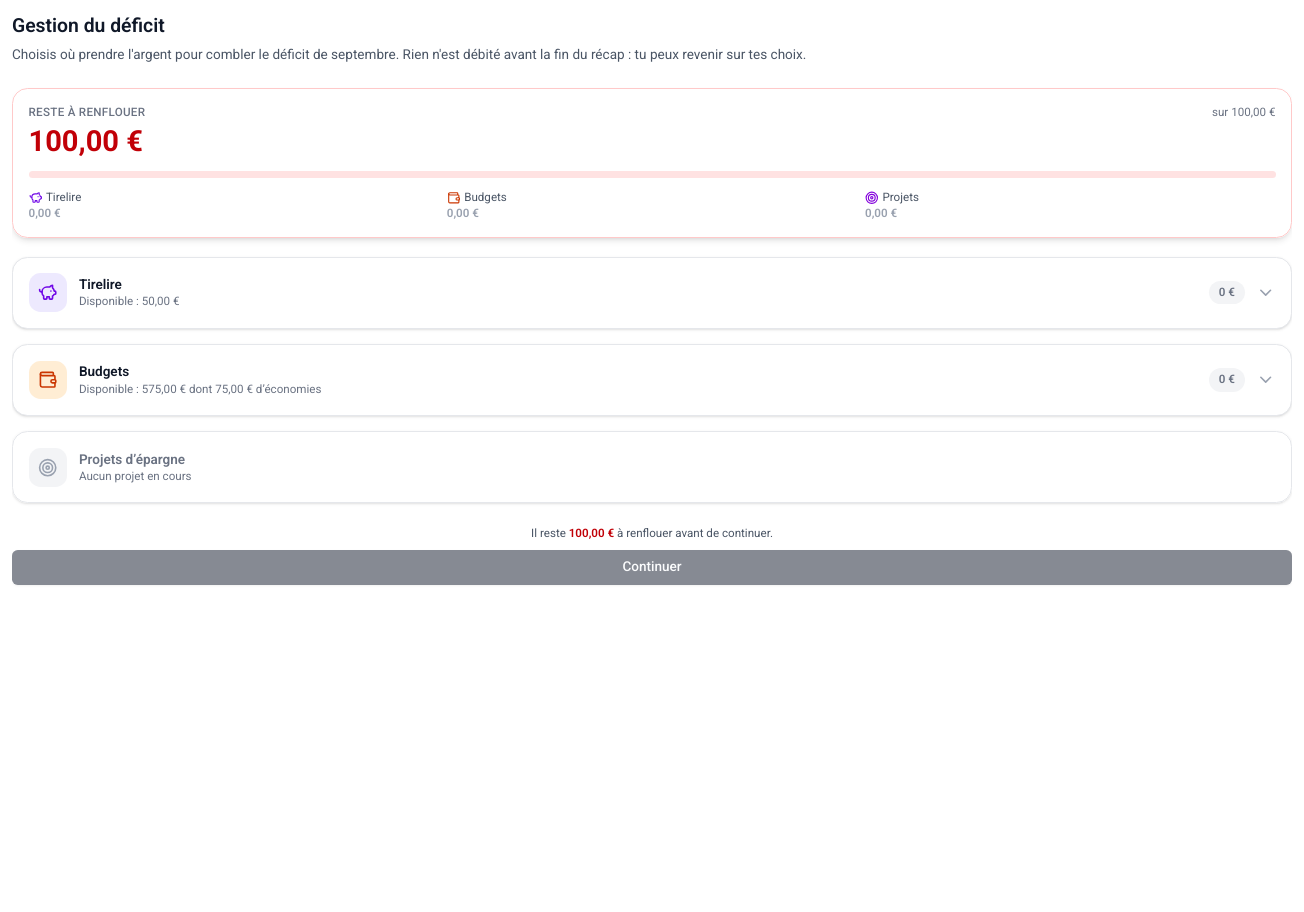
Test case: BilanNegativeStep — tirelire › Annuler abandonne la saisie
Click the button "Tirelire Disponible : 50,00 € 0 €" at (48, 293), box [13, 258, 1291, 328]
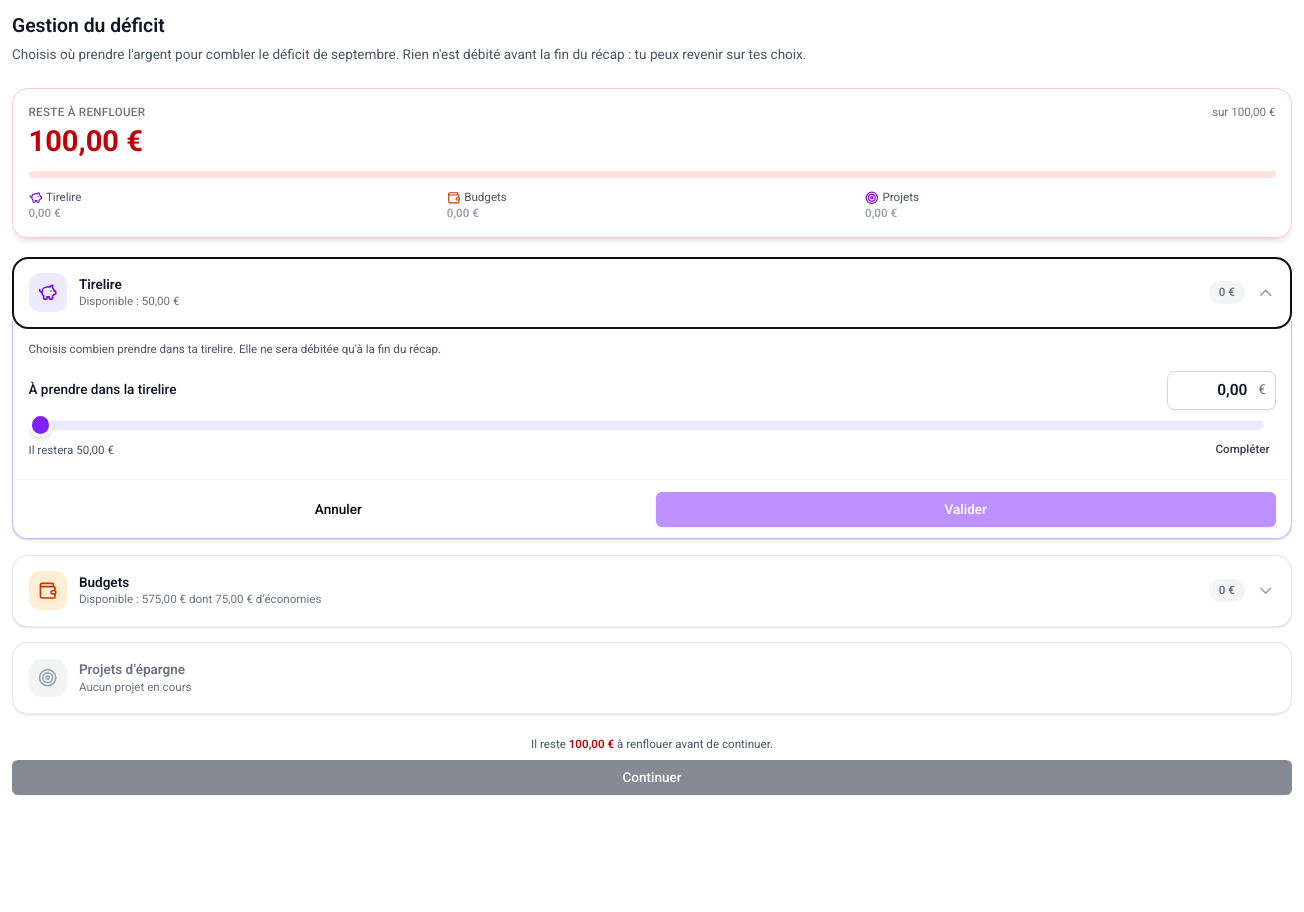
Set the slider named "Curseur Tirelire" to "30" at (775, 425), box [28, 410, 1276, 440]
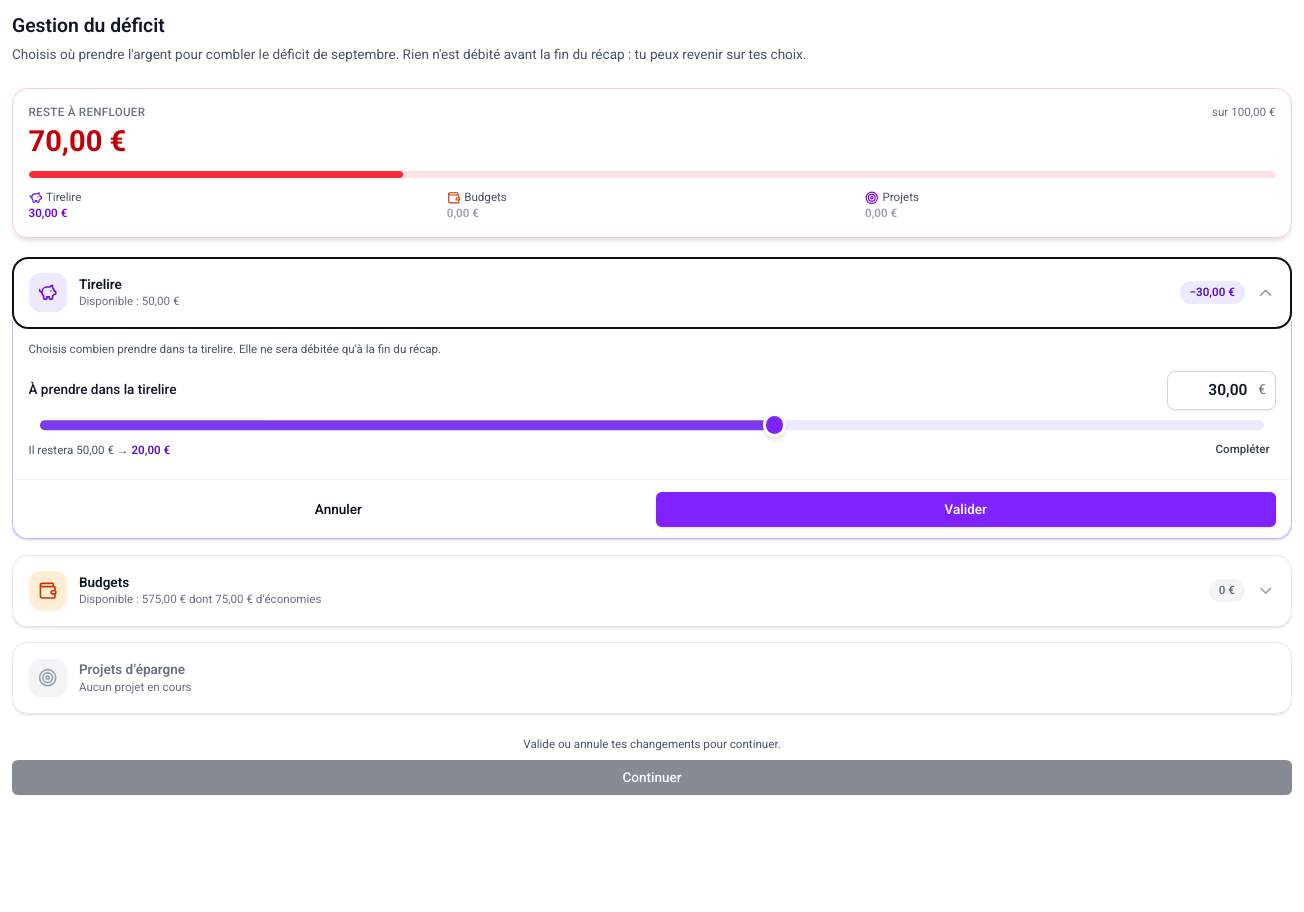
Click the button "Annuler" at (338, 509), box [28, 492, 648, 527]
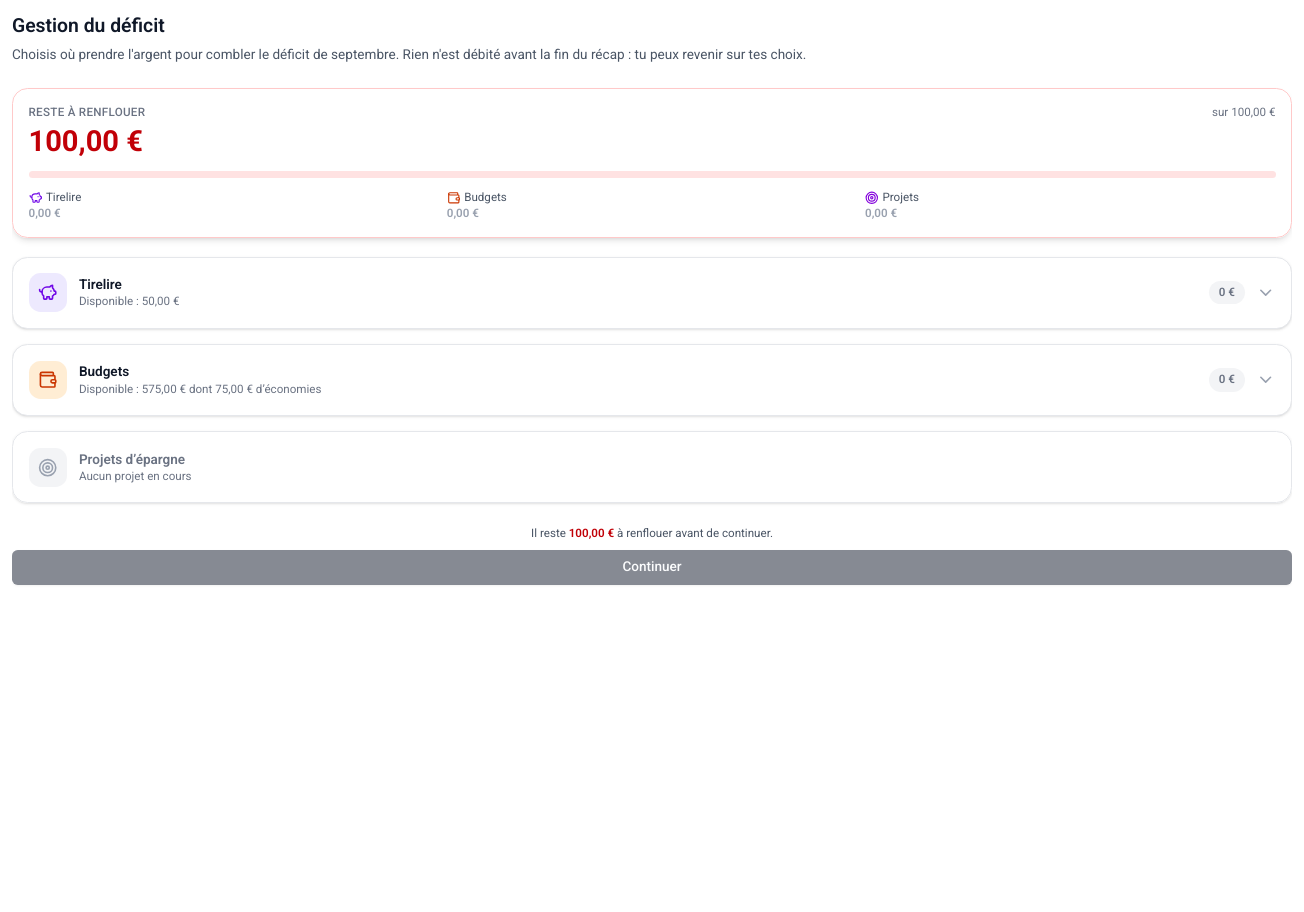
Result: the slider is gone
